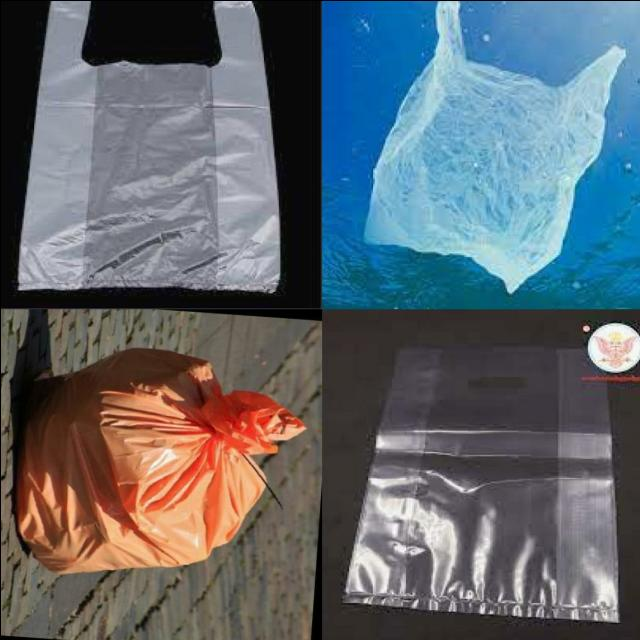plastik: (364, 0, 625, 293), (17, 0, 279, 291), (345, 345, 617, 620), (16, 348, 304, 572)
